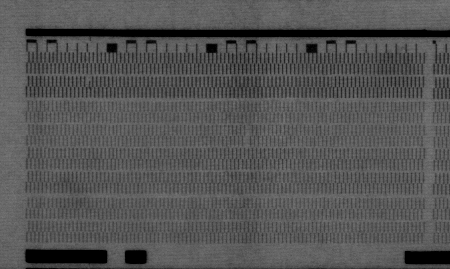Broken hole: (242, 125, 254, 146)
Oblique printing: (83, 76, 96, 91)
